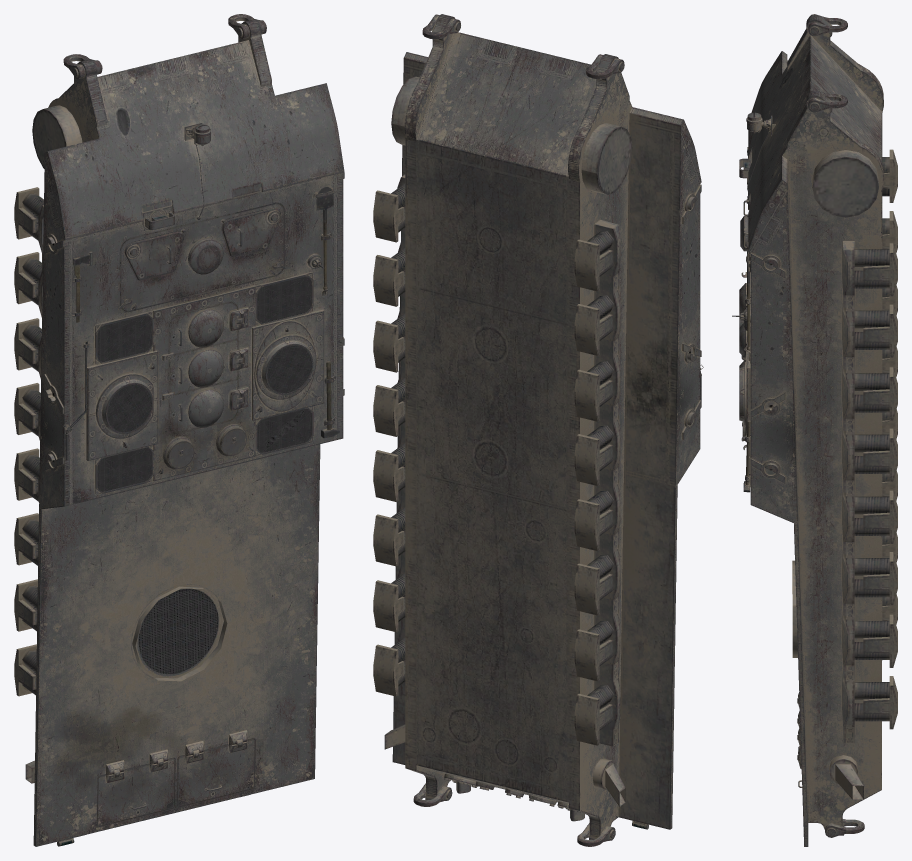
Rendered from Hull.glb.
The picture shows the model from 3 angles, left to right: view 1: azimuth 30°, elevation 25°; view 2: azimuth 150°, elevation 25°; view 3: azimuth 270°, elevation 25°; orthographic projection. The views are drawn at different scales.
Visible parts, largest first — view 1: set_0_group_0; view 2: set_0_group_0; view 3: set_0_group_0.
Part boxes in pixels (x1,y1,x2,y2): set_0_group_0: (14, 14, 344, 846); set_0_group_0: (373, 14, 703, 846); set_0_group_0: (732, 14, 897, 846).
Bounding box in the file's own units: 3.29 × 8.52 × 1.73.
1 material, 1 textured.
